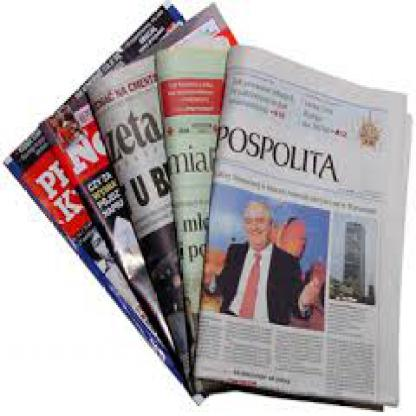paper: (0, 0, 338, 406), (26, 14, 288, 406), (156, 52, 387, 410), (85, 0, 295, 392), (191, 42, 402, 402)
